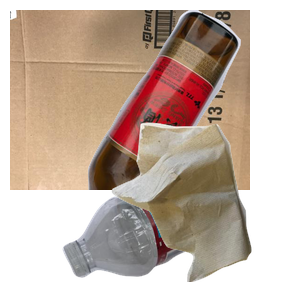cardboard: (10, 10, 250, 190)
glass: (85, 10, 300, 190)
plastic: (60, 190, 300, 280)
trash: (109, 120, 300, 300)
